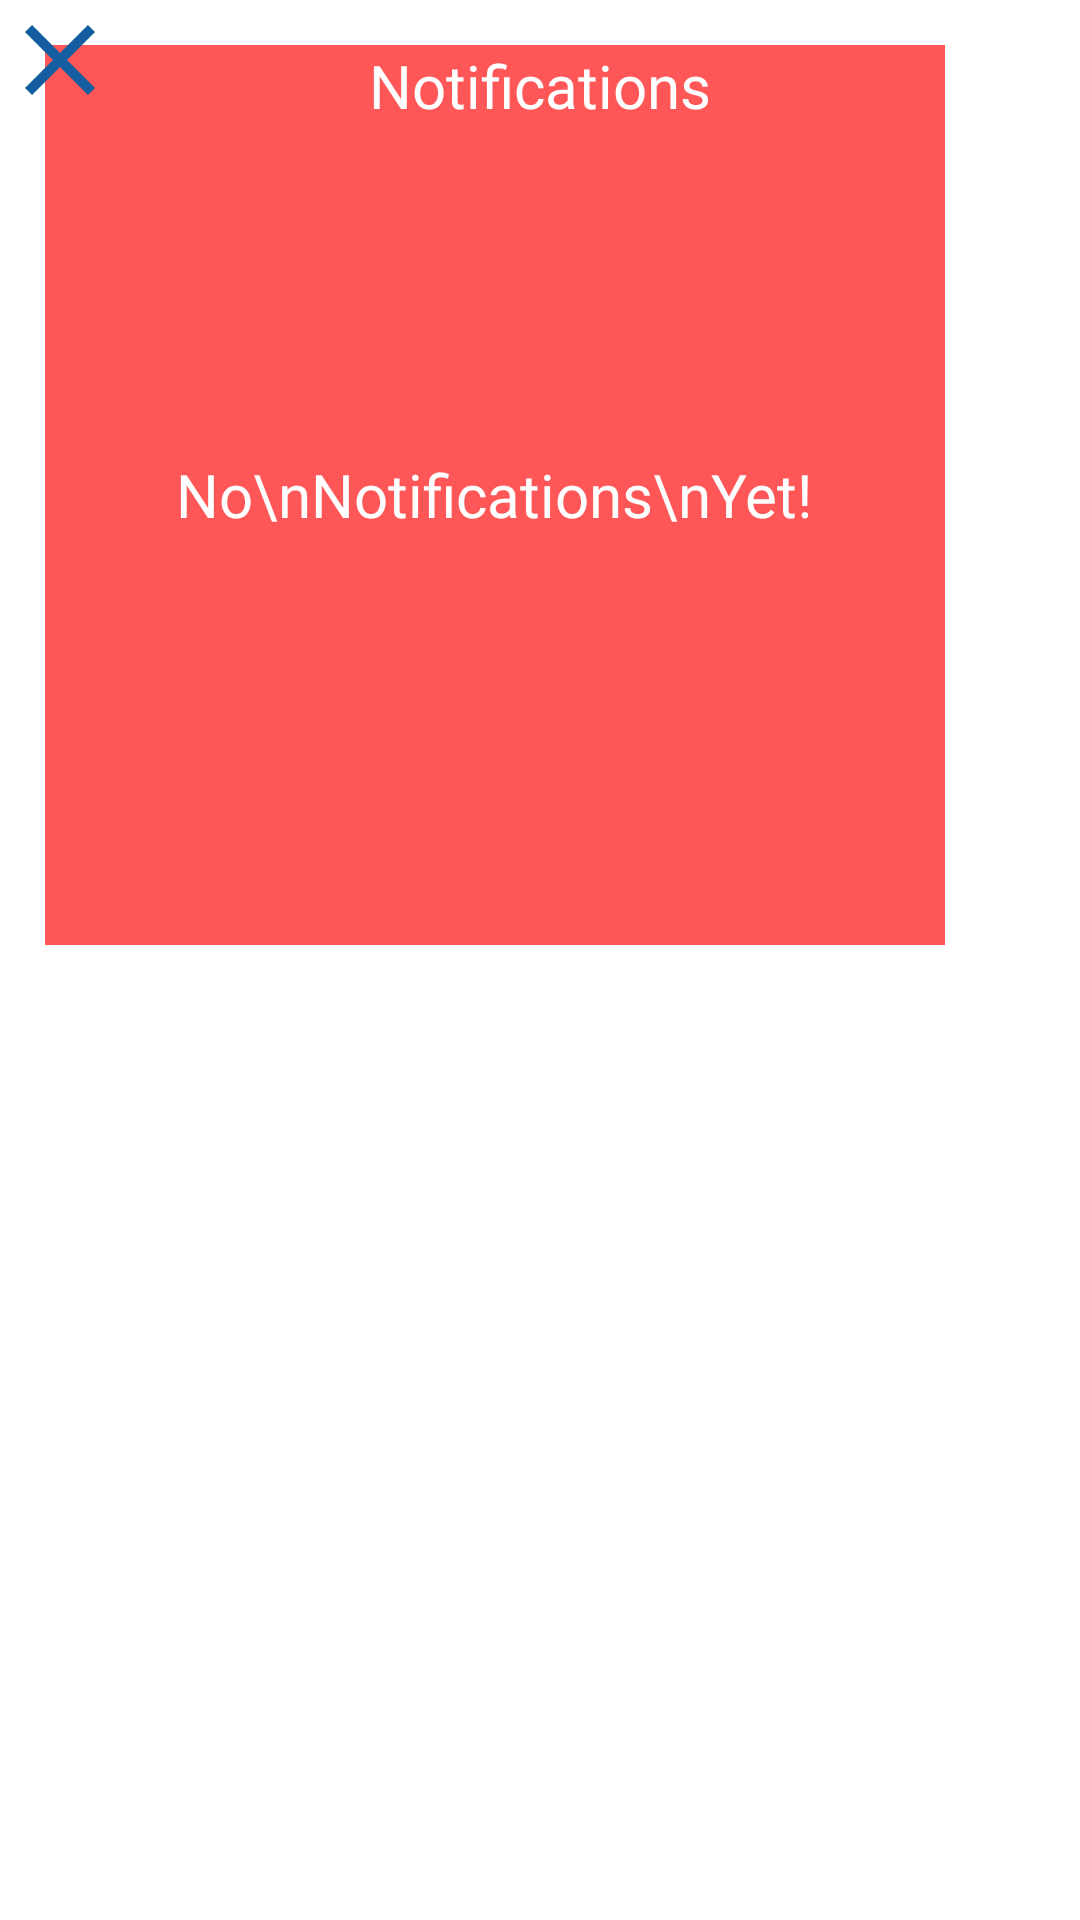

Where icons sit on this 1080 × 1920 app screen, as (x1, y1, x2, y2):
close: (0, 0, 120, 120)
